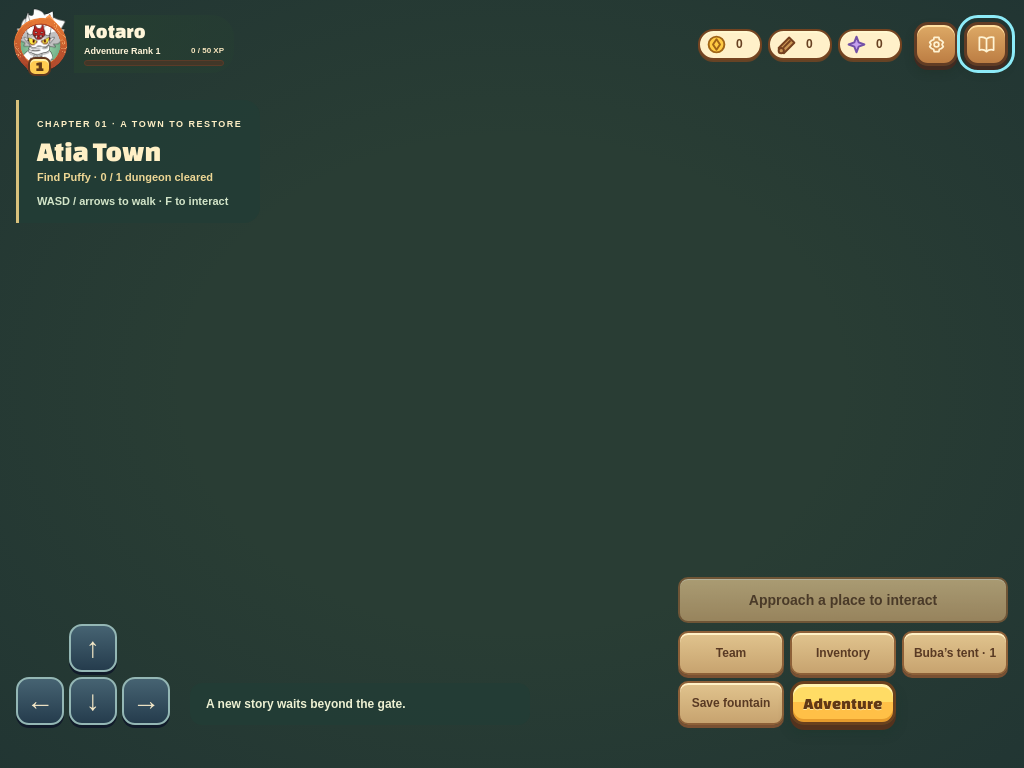
Test: help disables world input and restores focus on Escape
Click the button named "How to play".
click(986, 44)  # box x1=964 y1=22 x2=1008 y2=66
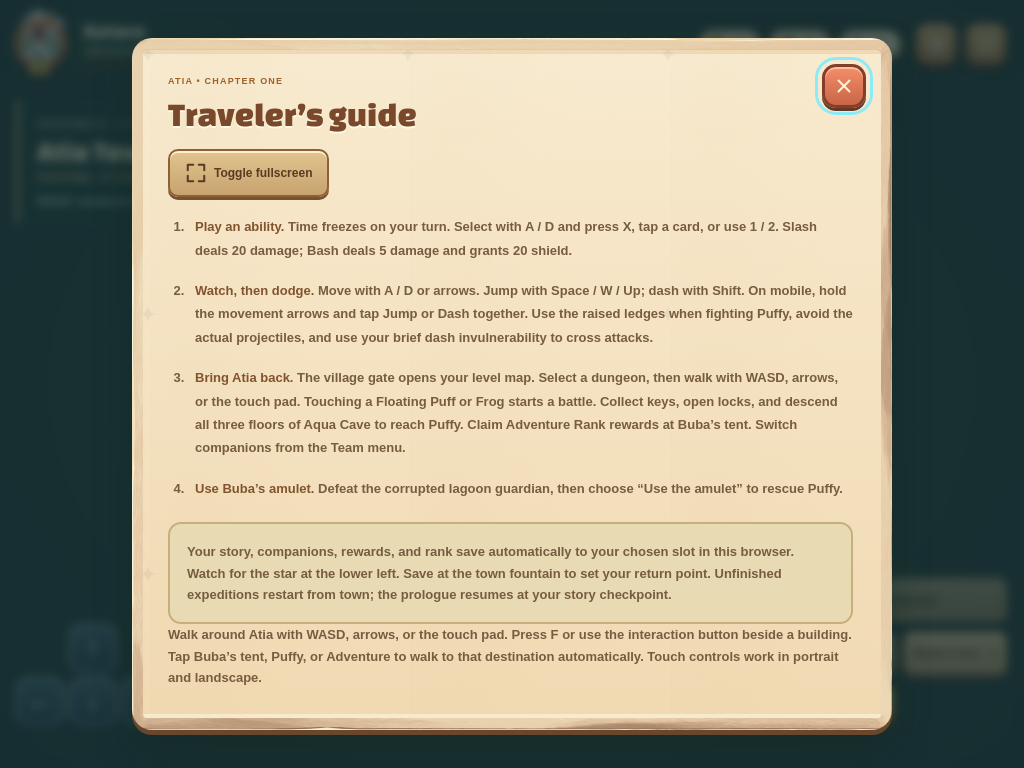
Press Tab
Press Escape
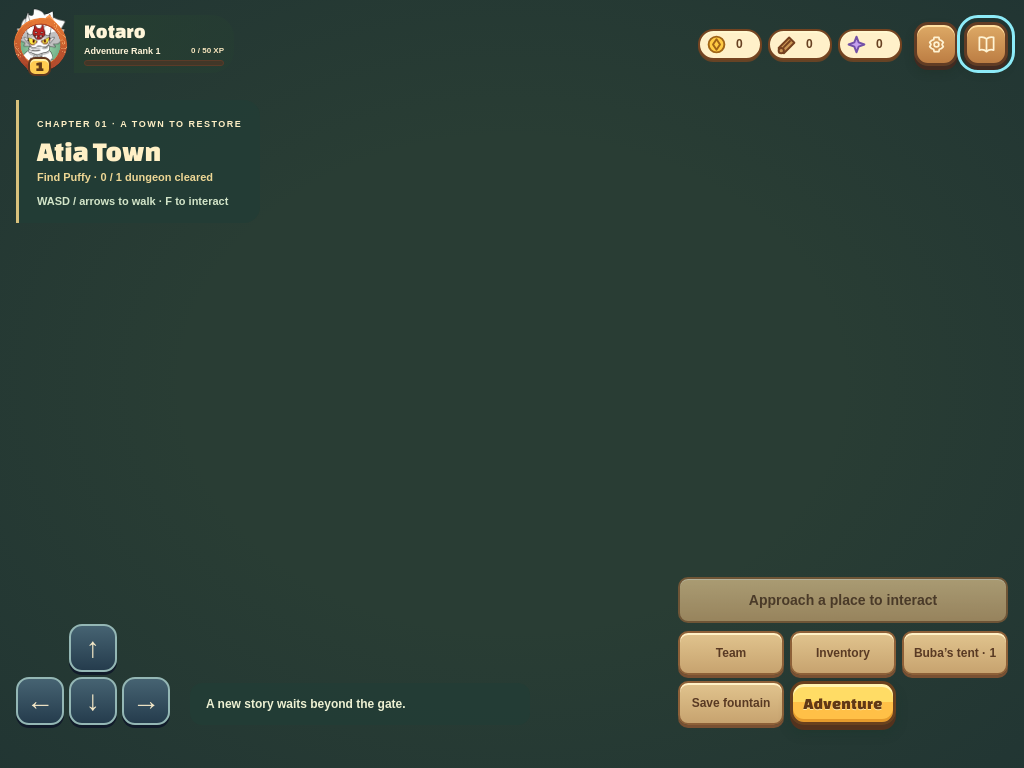
Expected: the dialog is gone
